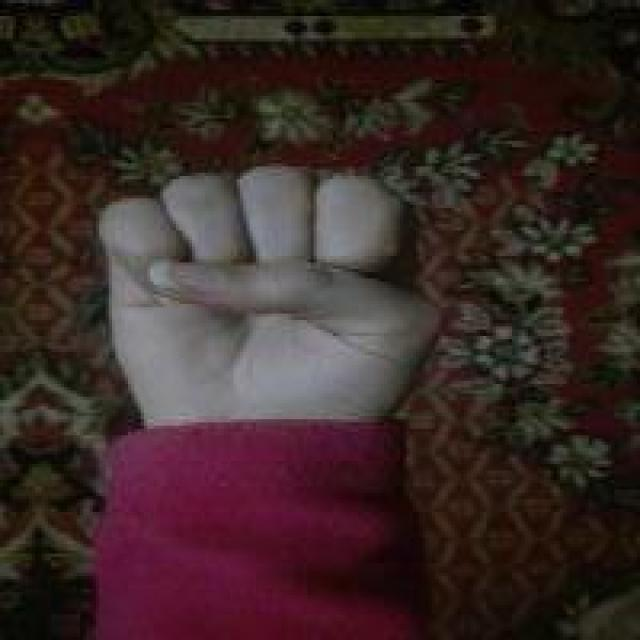E: (87, 158, 454, 440)
